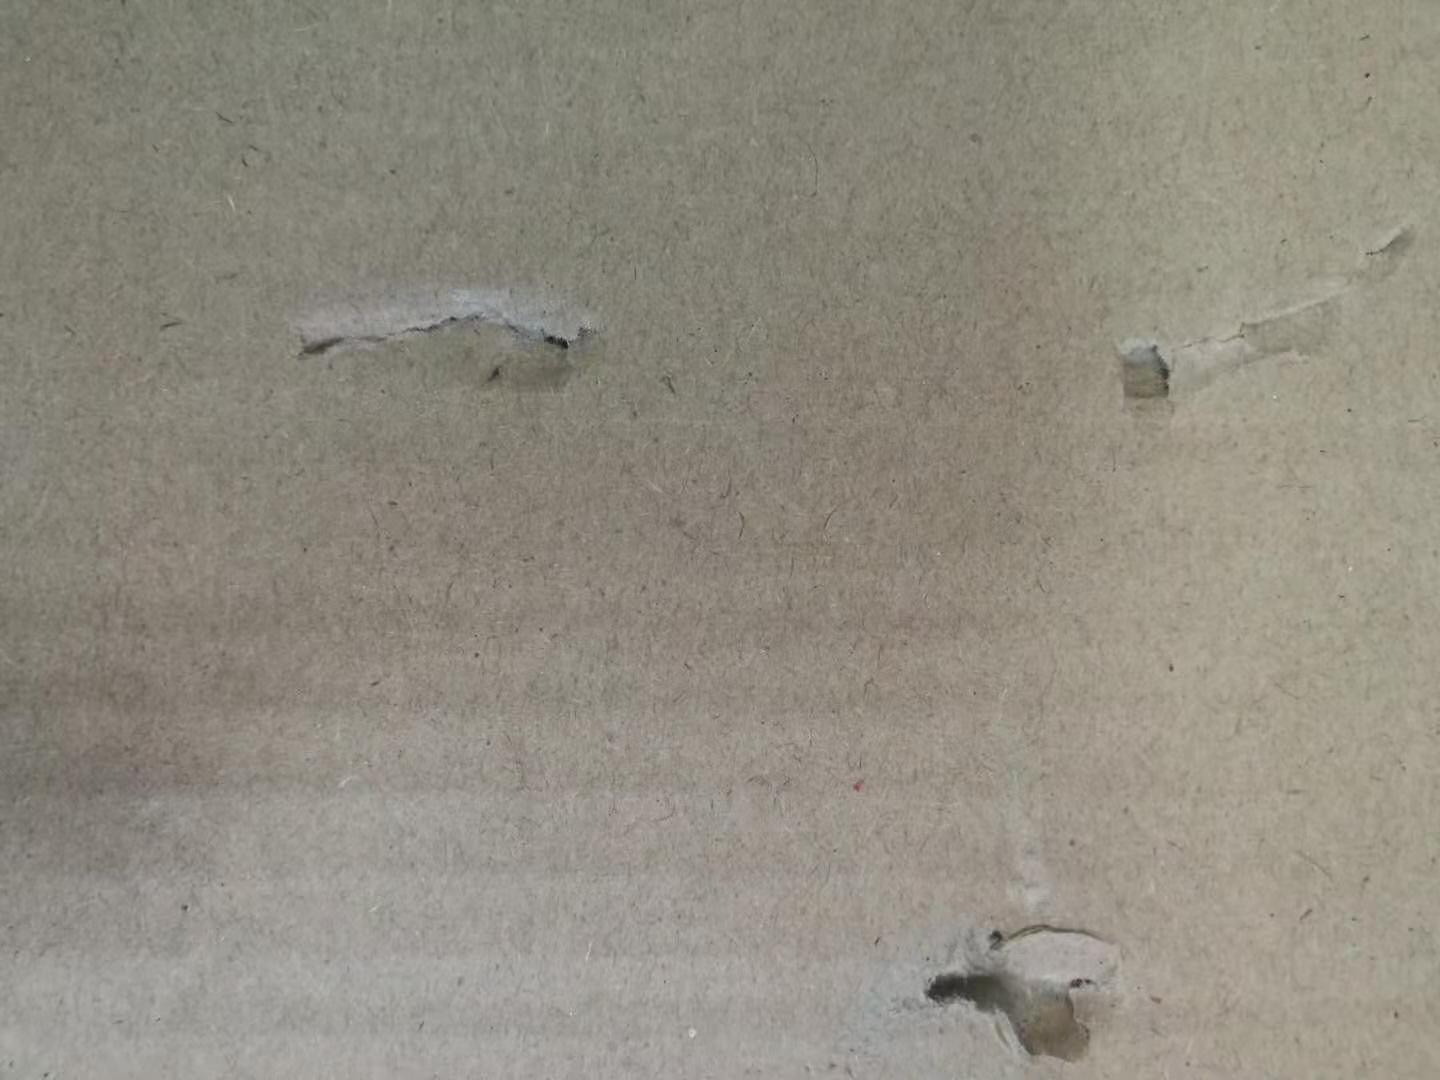defect: (1091, 202, 1437, 436), (268, 246, 643, 431), (808, 898, 1140, 1080)
